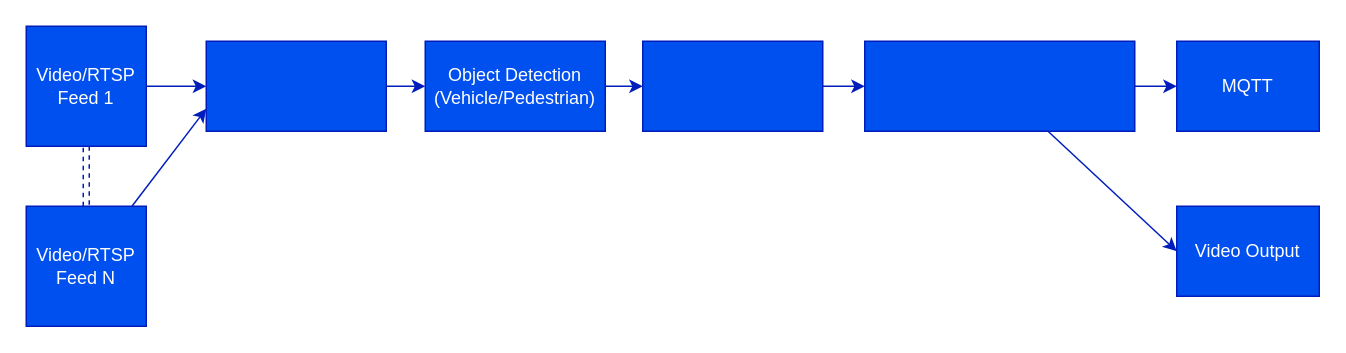
This 1346x353 diagram has some shape labels left out. Here are the shapes that lost their labels. From the top down, the centre of each, then its label:
At pixel 295 85: "Decode".
At pixel 732 85: "Tracking".
At pixel 999 85: "Object Classification (Vehicle make, model, color)".
